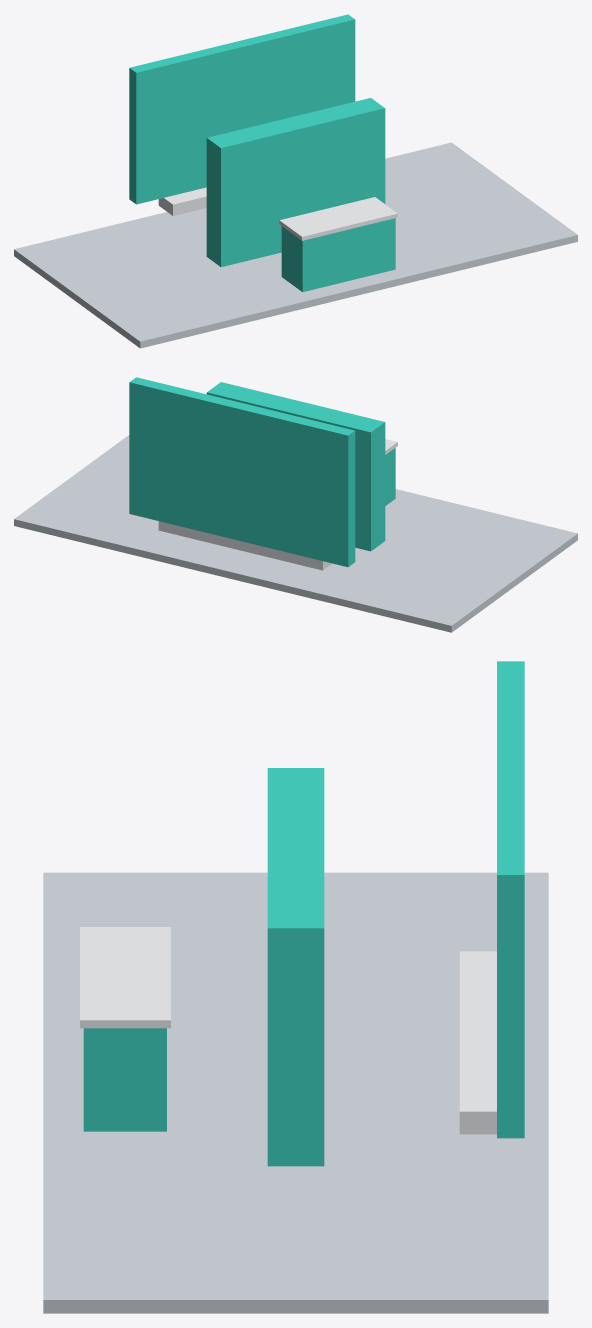
The picture shows the model from 3 angles, top to bottom: view 1: azimuth 30°, elevation 25°; view 2: azimuth 150°, elevation 25°; view 3: azimuth 270°, elevation 25°; orthographic projection. The views are drawn at different scales.
Parts seen in each view (by area): view 1: Exhibition Booth Concept; view 2: Exhibition Booth Concept; view 3: Exhibition Booth Concept.
Part boxes in pixels (bbox=[...]): Exhibition Booth Concept: bbox=[14, 14, 577, 348]; Exhibition Booth Concept: bbox=[14, 377, 577, 632]; Exhibition Booth Concept: bbox=[43, 661, 548, 1313].
Size of the model in its own units: 8 by 2.9 by 4.
